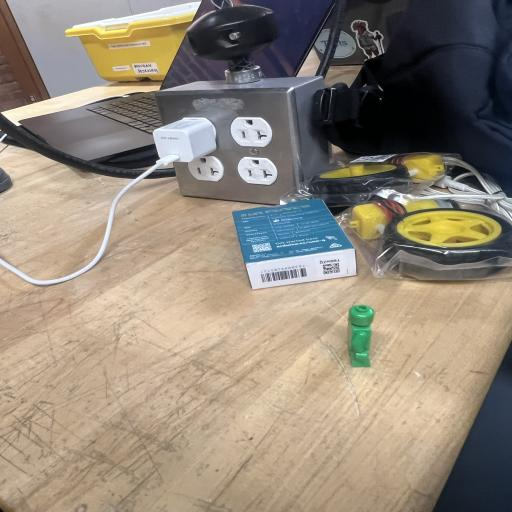green-lego-minifigure-detector: (348, 305, 375, 367)
